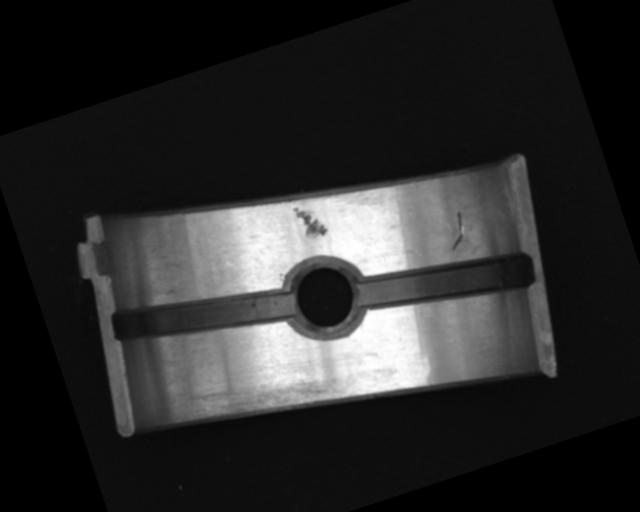bruise: (291, 200, 329, 244)
gap: (108, 259, 297, 371), (353, 229, 537, 337)
hole: (276, 250, 373, 347)
nick: (441, 210, 472, 251)
scratch: (188, 350, 347, 443)
